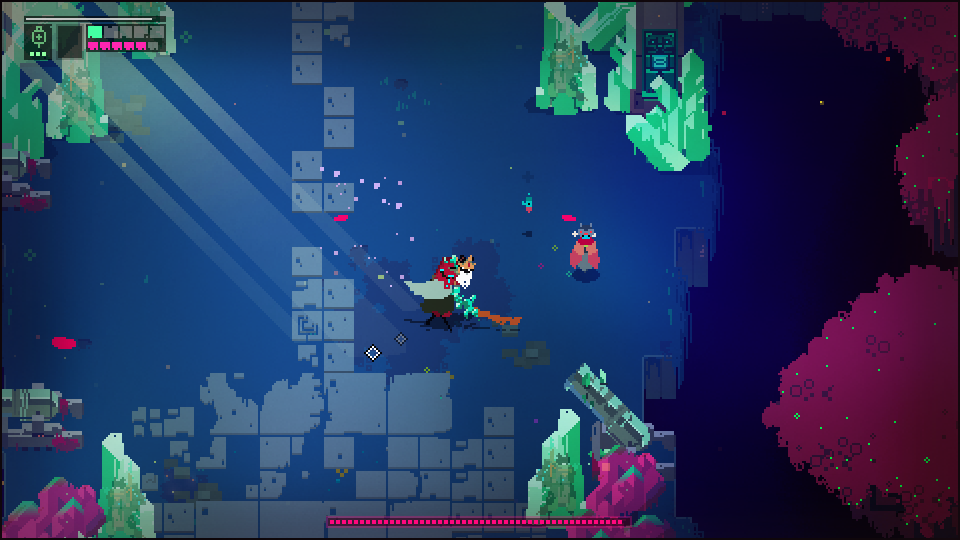hanged_man: (404, 248, 486, 327)
player: (568, 221, 602, 278)
